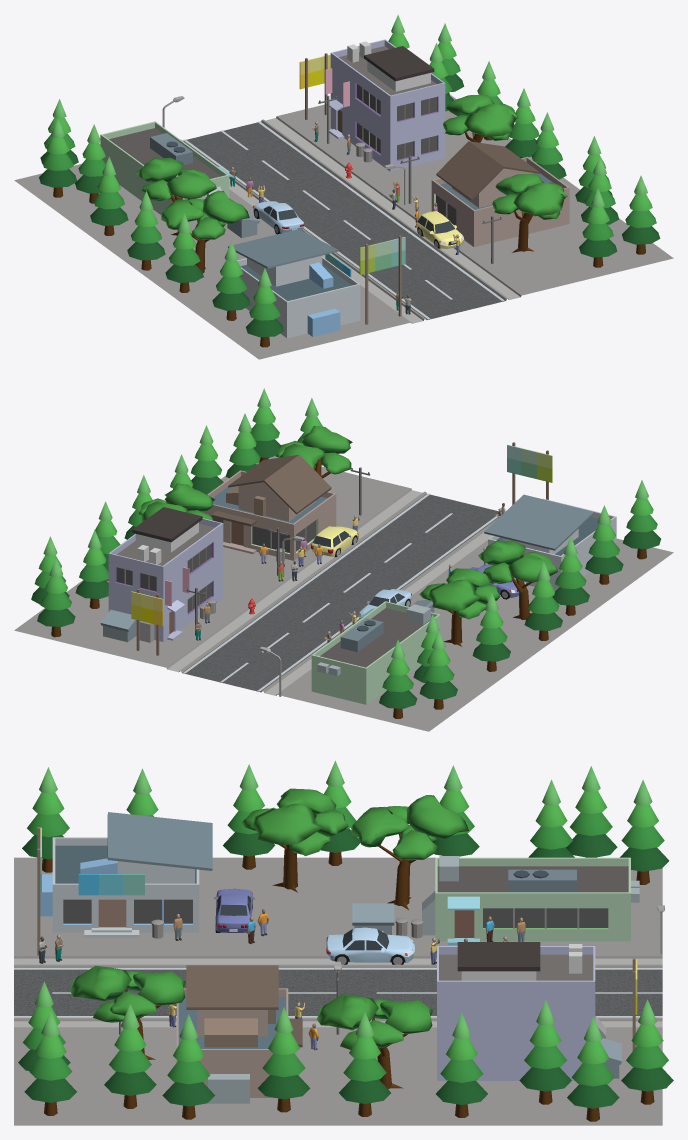
The model's file is SM_Block_BG_B.fbx.
3 renders of one model, top to bottom at view 1: azimuth 30°, elevation 25°; view 2: azimuth 150°, elevation 25°; view 3: azimuth 270°, elevation 25°, orthographic. The views are drawn at different scales.
Visible parts, largest first — view 1: SM_Block_BG_B; view 2: SM_Block_BG_B; view 3: SM_Block_BG_B.
Boxes of the visible parts, <box> form: SM_Block_BG_B: <box>14,14,673,359</box>; SM_Block_BG_B: <box>14,388,673,731</box>; SM_Block_BG_B: <box>14,760,673,1125</box>.
Size of the model in its own units: 3043 by 586 by 3052.
